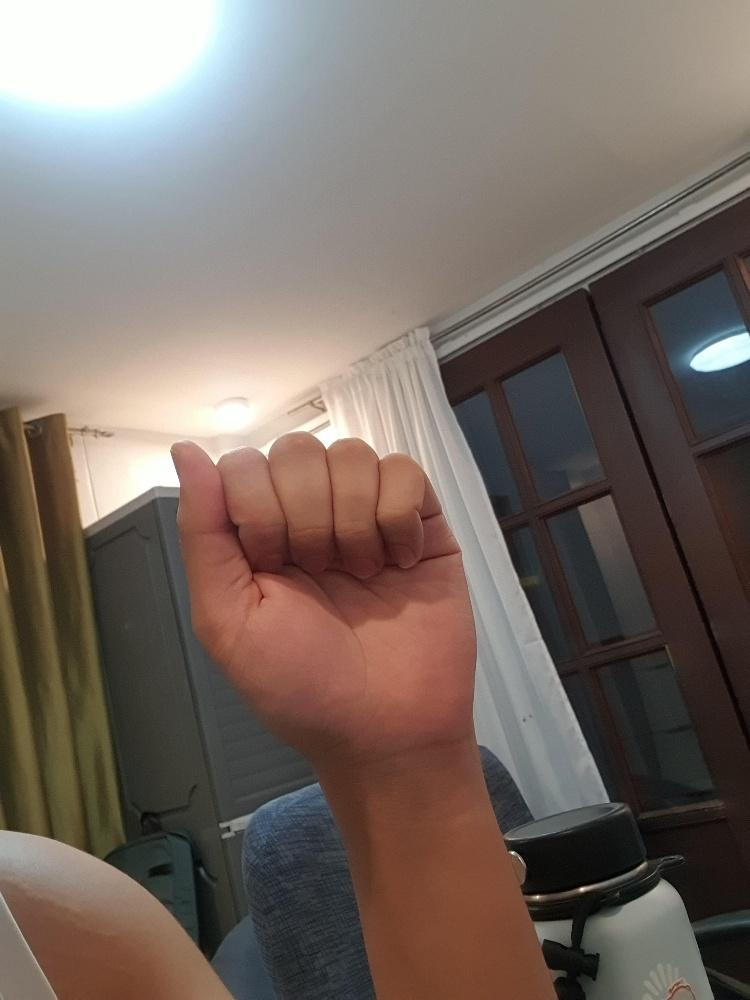a: (164, 425, 479, 763)
